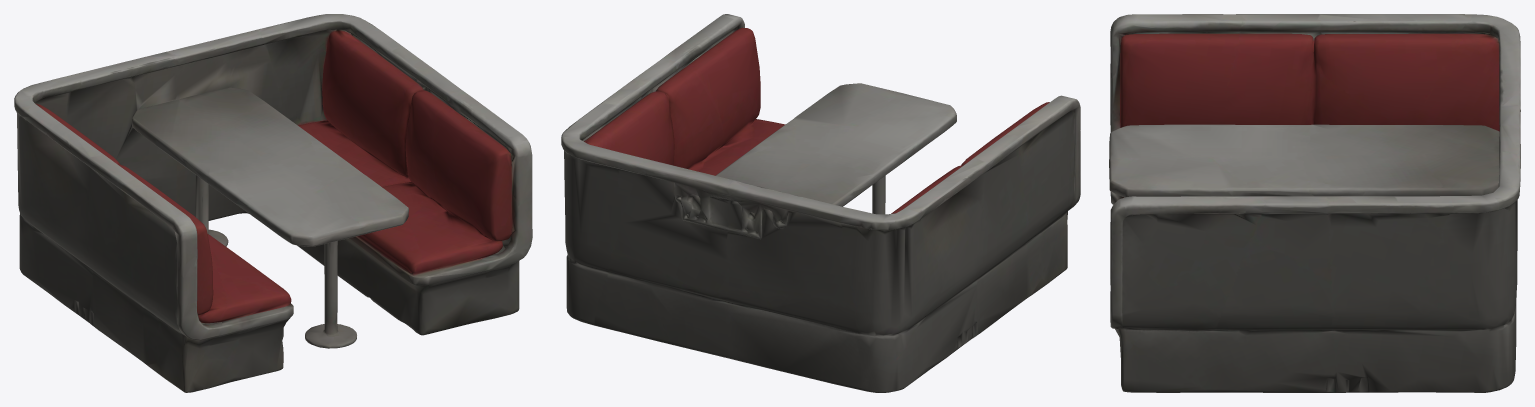
The model's file is cantina_booth.glb.
3 renders of one model, left to right at view 1: azimuth 30°, elevation 25°; view 2: azimuth 150°, elevation 25°; view 3: azimuth 270°, elevation 25°, orthographic. The views are drawn at different scales.
Parts seen in each view (by area): view 1: tripo_node_c86e1a67-54ea-4fef-aac6-09620a1e510f; view 2: tripo_node_c86e1a67-54ea-4fef-aac6-09620a1e510f; view 3: tripo_node_c86e1a67-54ea-4fef-aac6-09620a1e510f.
Boxes of the visible parts, box(x1,y1,x2,y2) form: tripo_node_c86e1a67-54ea-4fef-aac6-09620a1e510f: box(14, 14, 532, 392); tripo_node_c86e1a67-54ea-4fef-aac6-09620a1e510f: box(561, 14, 1080, 392); tripo_node_c86e1a67-54ea-4fef-aac6-09620a1e510f: box(1109, 14, 1520, 392).
Size of the model in its own units: 0.9992 by 0.4725 by 0.9087.
1 material, 1 textured.
